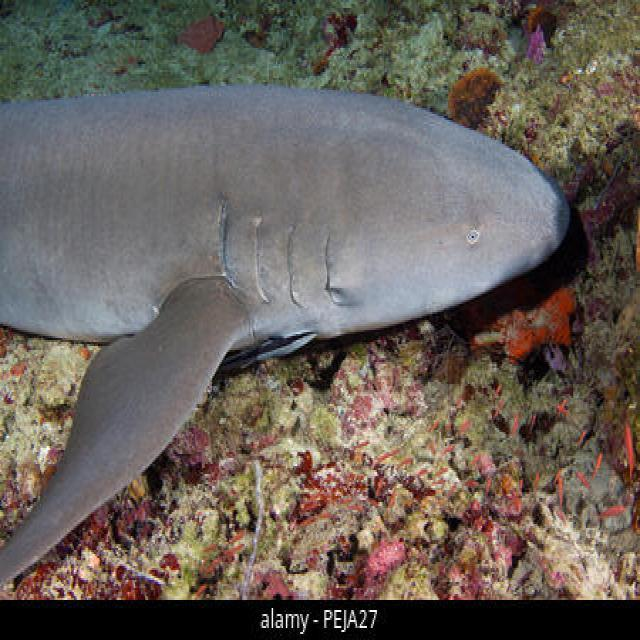Shark: (0, 68, 577, 580)
